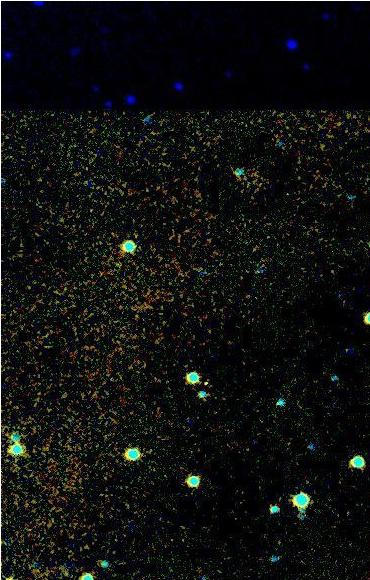star: (191, 367, 221, 397)
